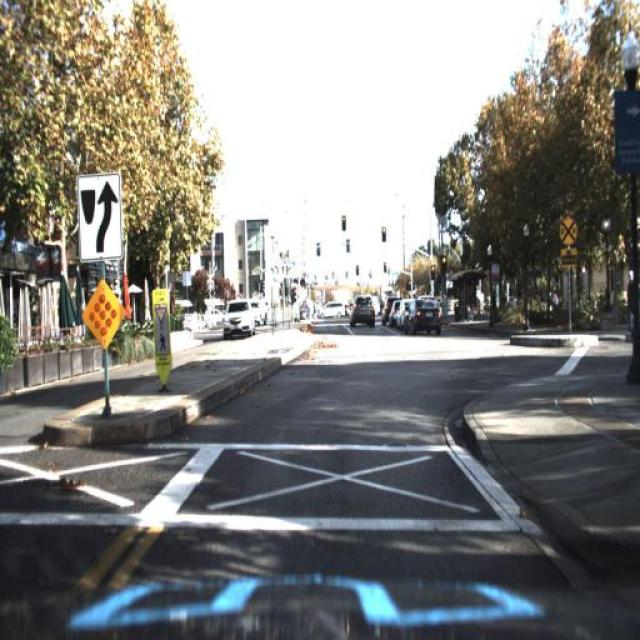car: (221, 294, 257, 340), (408, 294, 440, 334), (348, 294, 378, 328), (314, 296, 345, 322), (252, 296, 266, 326)
trafficLight: (626, 268, 639, 342), (547, 278, 561, 328)
trafficLight-RedLeft: (377, 219, 388, 247), (426, 259, 436, 286), (441, 249, 452, 271), (338, 211, 348, 234)
